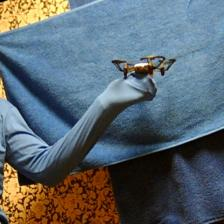drone: (112, 54, 177, 83)
